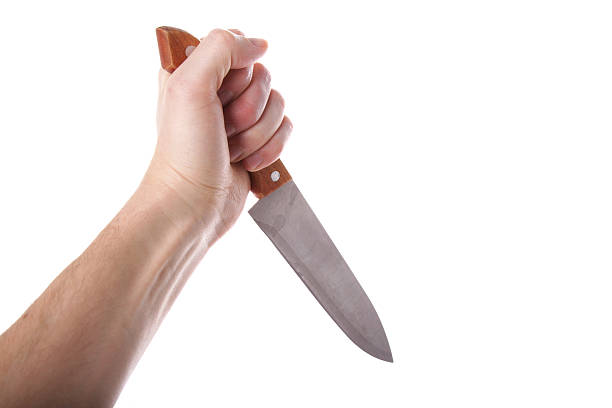knife: (153, 24, 395, 365)
